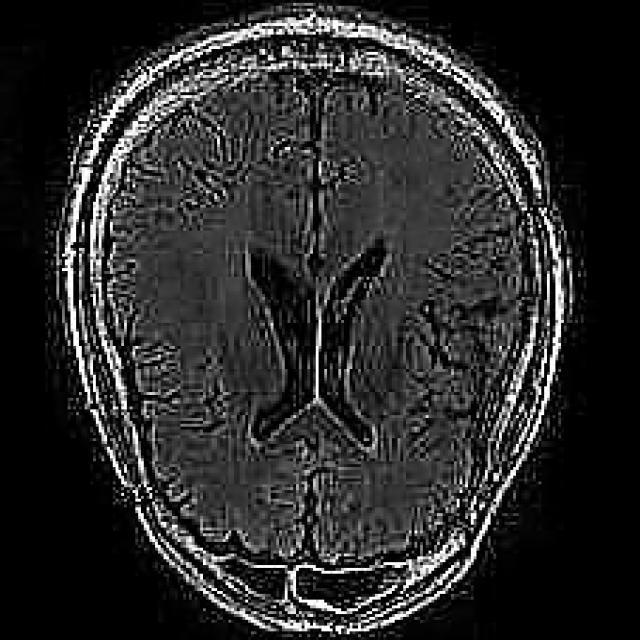notumor: (59, 6, 572, 634)
